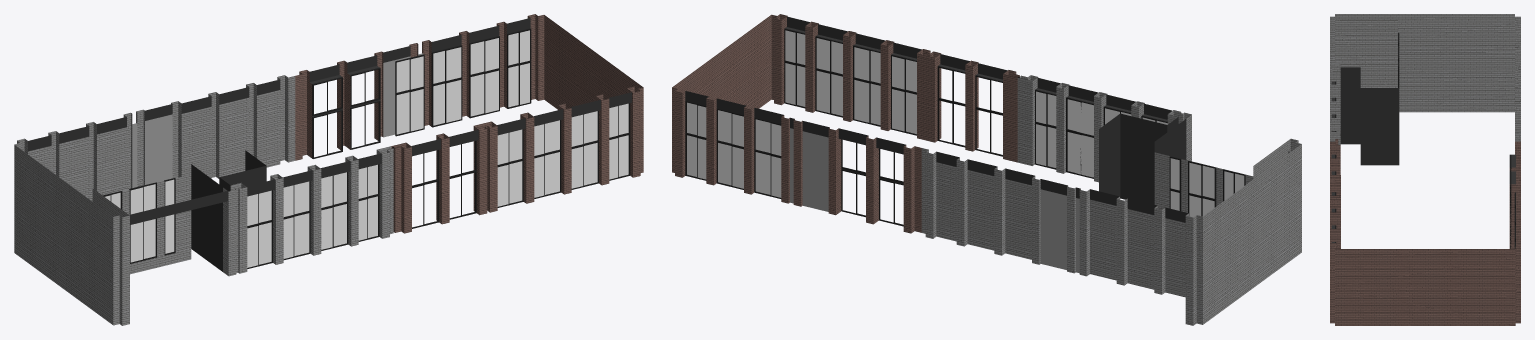
The model's file is MSH_Piso_1_2.FBX.
3 renders of one model, left to right at view 1: azimuth 30°, elevation 25°; view 2: azimuth 150°, elevation 25°; view 3: azimuth 270°, elevation 25°, orthographic. The views are drawn at different scales.
Visible parts, largest first — view 1: MSH_Piso_1_2; view 2: MSH_Piso_1_2; view 3: MSH_Piso_1_2.
Boxes of the visible parts, x1,y1,x2,y2 form: MSH_Piso_1_2: (14,14,643,325); MSH_Piso_1_2: (672,14,1301,325); MSH_Piso_1_2: (1330,14,1520,325).
Size of the model in its own units: 4244 by 830 by 1458.
